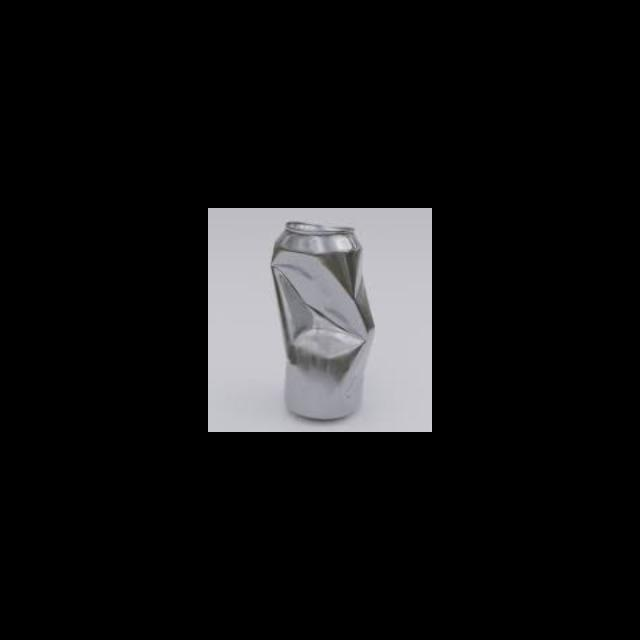metal: (269, 212, 378, 424)
